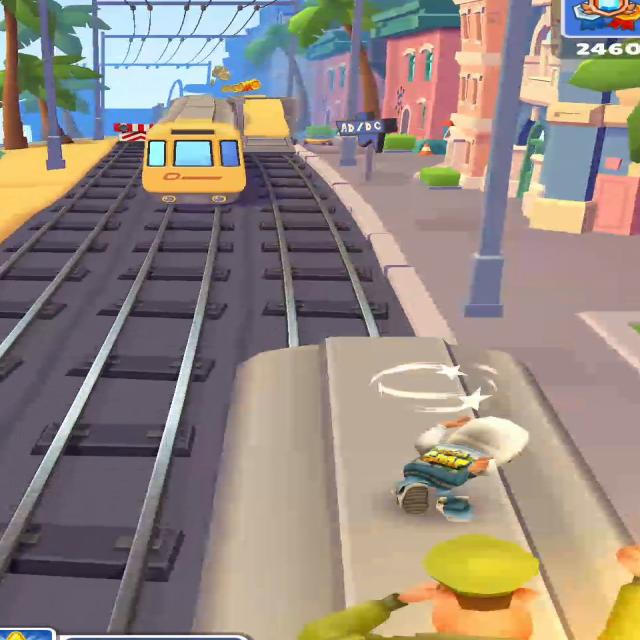climber: (227, 96, 296, 152)
roll blocker: (114, 123, 153, 142)
train: (142, 96, 246, 204)
